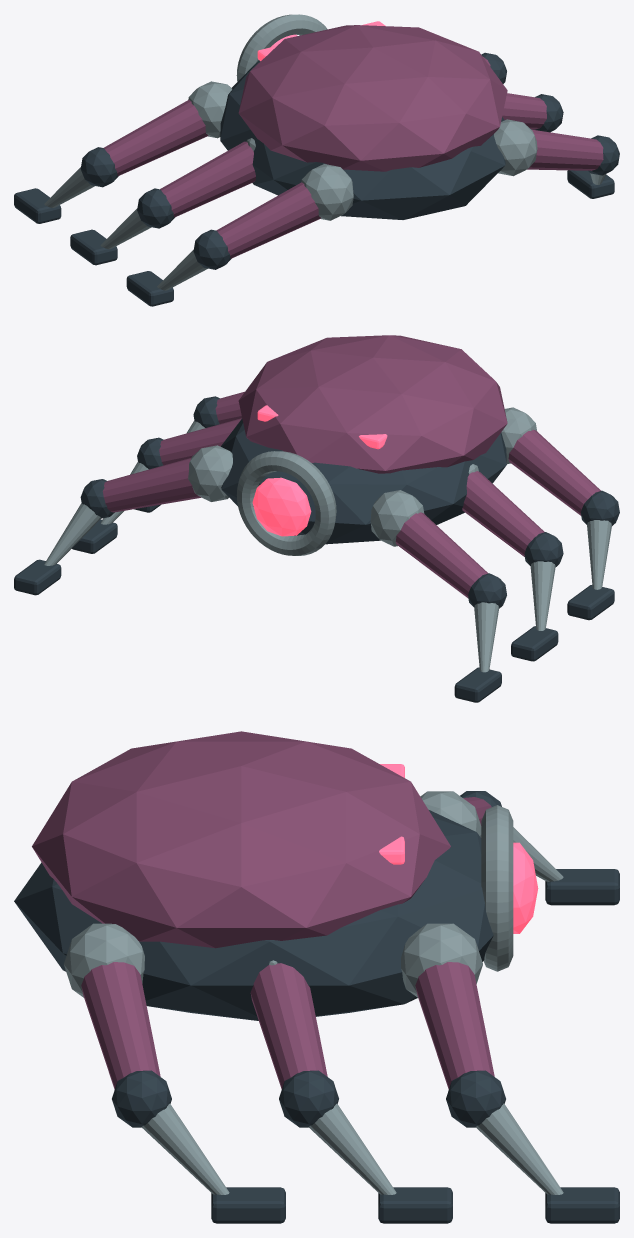
The model's file is lapa_drone.glb.
3 renders of one model, top to bottom at view 1: azimuth 30°, elevation 25°; view 2: azimuth 150°, elevation 25°; view 3: azimuth 270°, elevation 25°, orthographic. The views are drawn at different scales.
Visible parts, largest first — view 1: lapa_drone_mesh, Sensor_yaw_mesh; view 2: lapa_drone_mesh, Sensor_yaw_mesh; view 3: lapa_drone_mesh, Sensor_yaw_mesh.
Part boxes in pixels (box(x1,y1,x2,y2)): lapa_drone_mesh: box(14, 21, 619, 306); Sensor_yaw_mesh: box(236, 14, 327, 81); lapa_drone_mesh: box(14, 335, 619, 702); Sensor_yaw_mesh: box(236, 451, 336, 555); lapa_drone_mesh: box(14, 731, 619, 1223); Sensor_yaw_mesh: box(481, 805, 538, 971).
Size of the model in its own units: 2.24 by 0.905 by 1.7.
